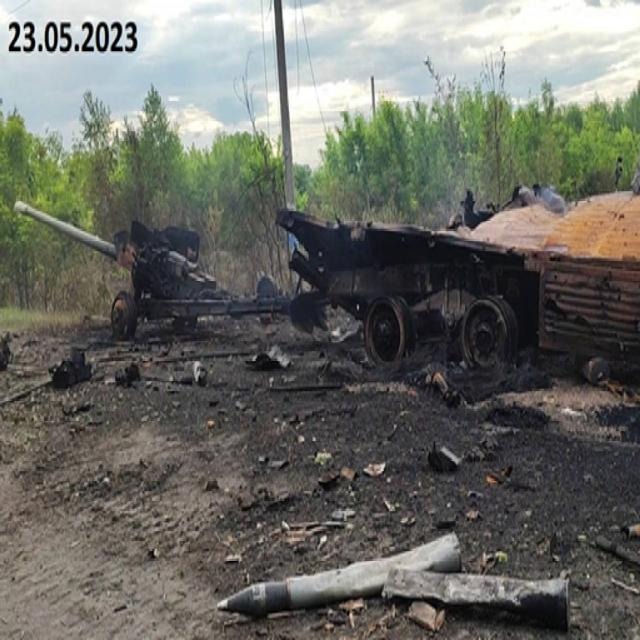ART: (12, 198, 276, 342)
